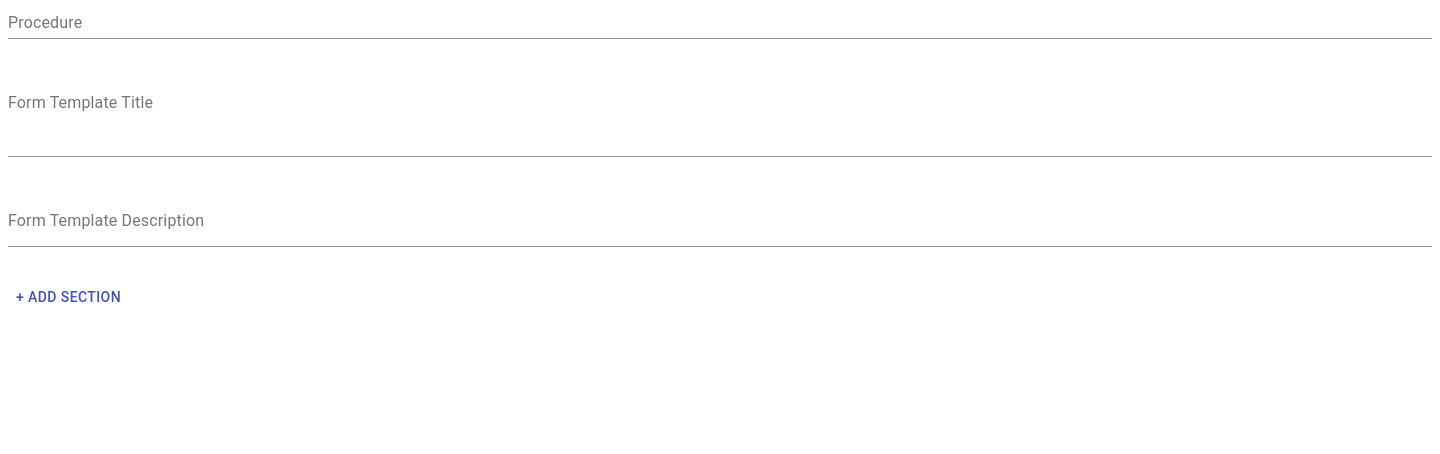
Test: FormTemplate Tests › renders new section correctly
The image size is (1440, 454).
Click the button with test id "addButton".
click(69, 298)  # box [8,279,129,316]
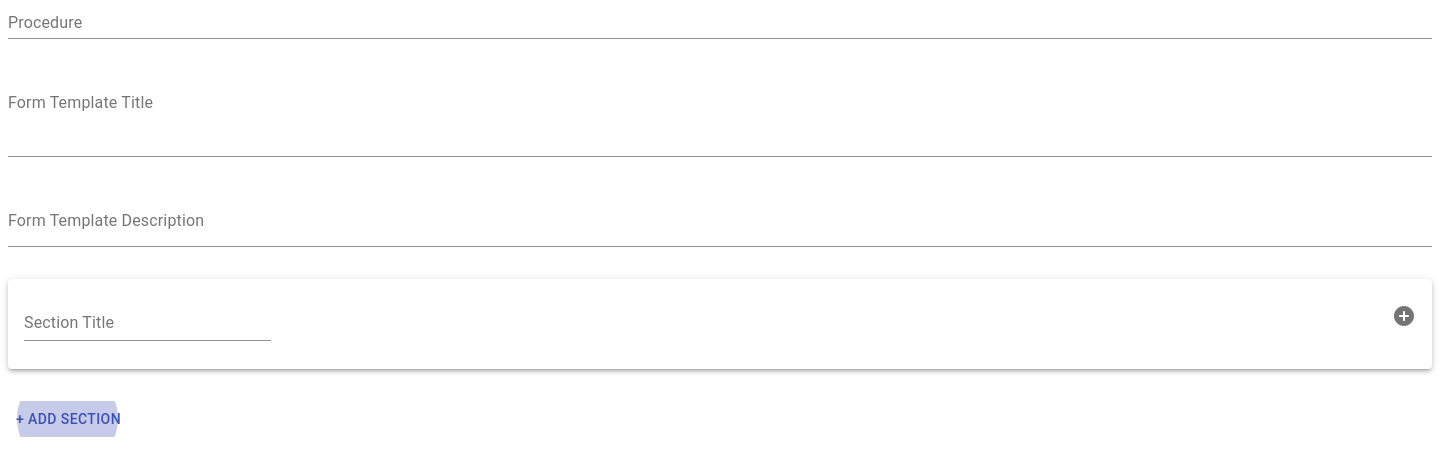
Now the button "Section Title" is shown, box [24,304,1416,341]
